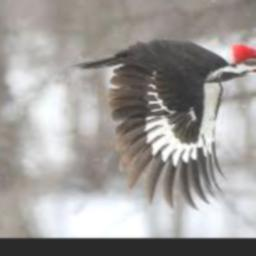Woodpecker: (73, 41, 256, 207)
